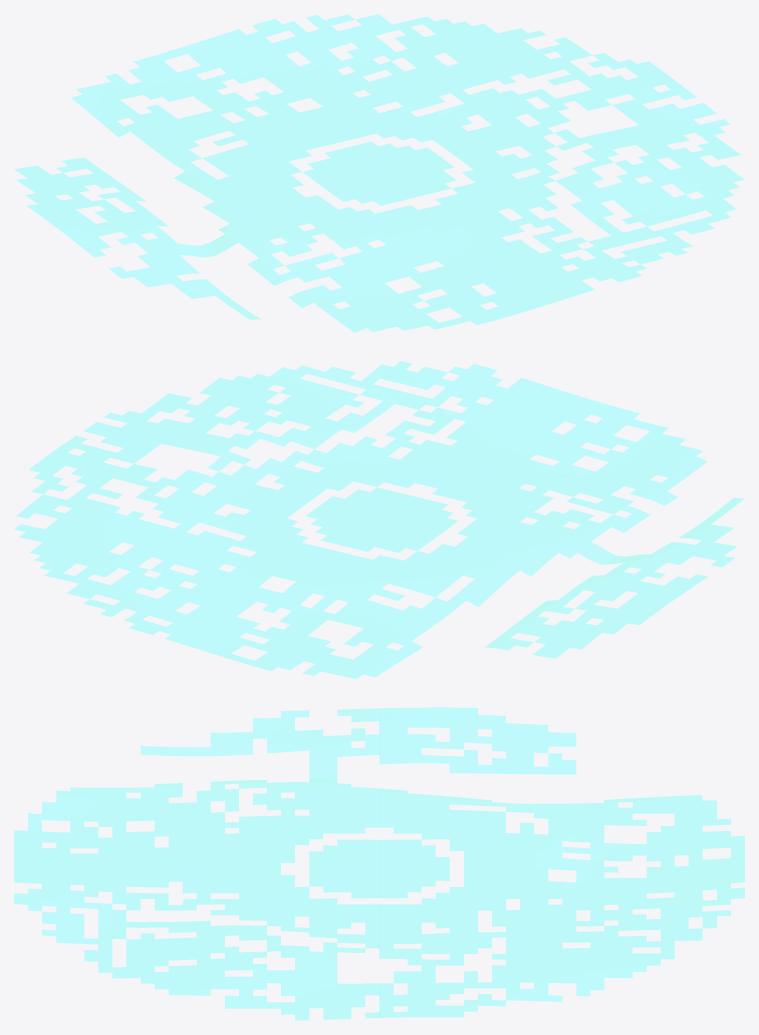
Rendered from navmesh_stage_3_closed.glb.
3 views of the same model, one above another, from view 1: azimuth 30°, elevation 25°; view 2: azimuth 150°, elevation 25°; view 3: azimuth 270°, elevation 25° (orthographic). The views are drawn at different scales.
Parts seen in each view (by area): view 1: navmesh_stage_3_closed; view 2: navmesh_stage_3_closed; view 3: navmesh_stage_3_closed.
Part boxes in pixels (left/top/right/bottom): navmesh_stage_3_closed: left=15, top=14, right=744, bottom=332; navmesh_stage_3_closed: left=14, top=361, right=743, bottom=678; navmesh_stage_3_closed: left=14, top=707, right=744, bottom=1020.
Size of the model in its own units: 91 by 2.37 by 91.
